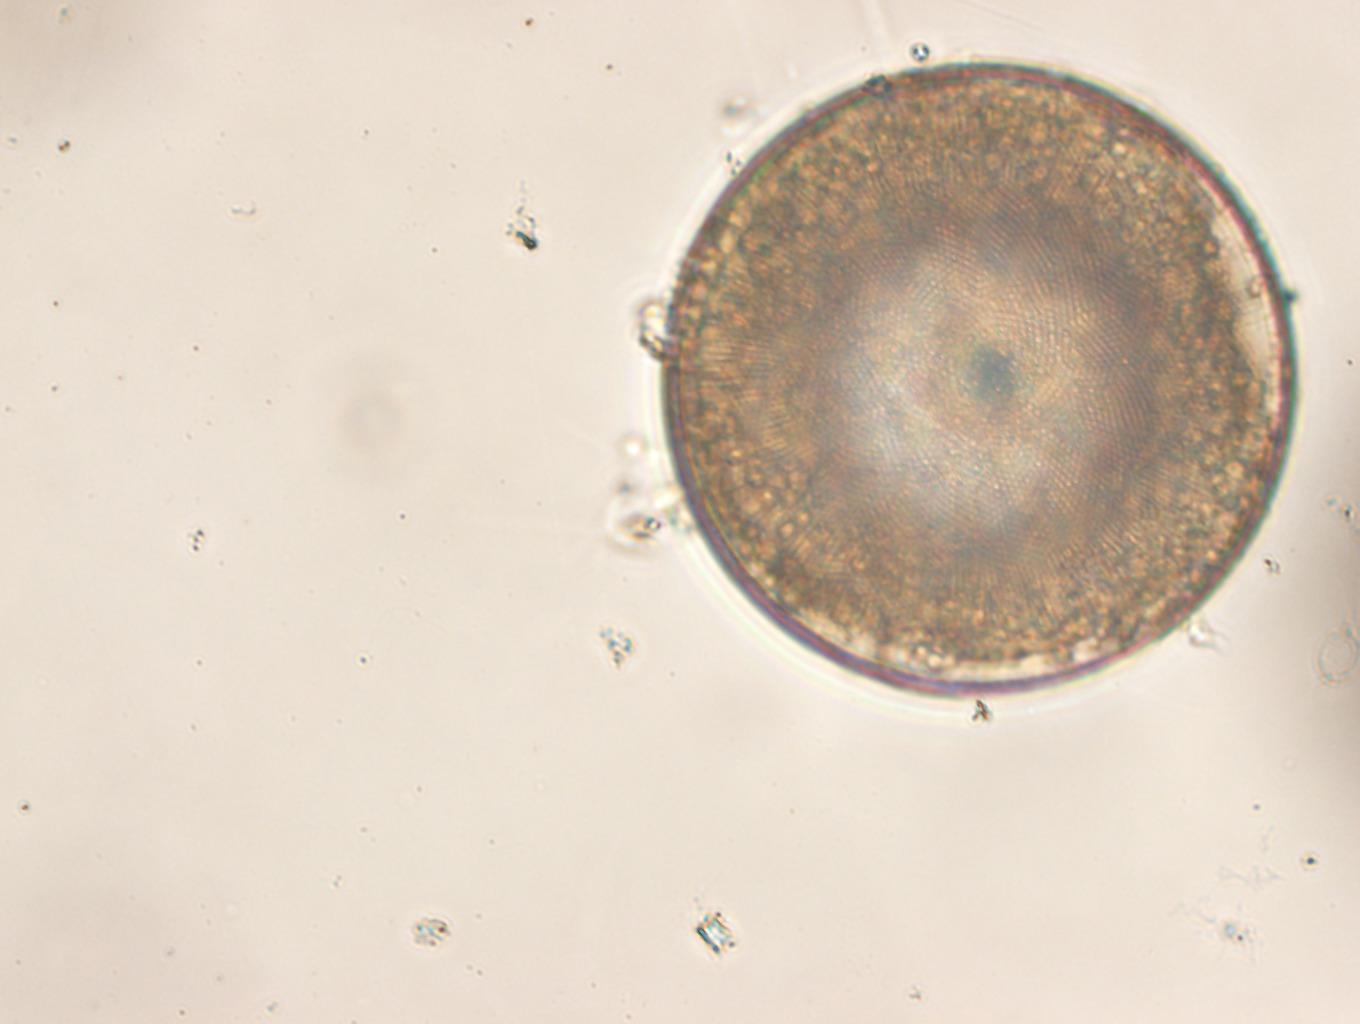coscinodiscus: (657, 65, 1297, 698)
